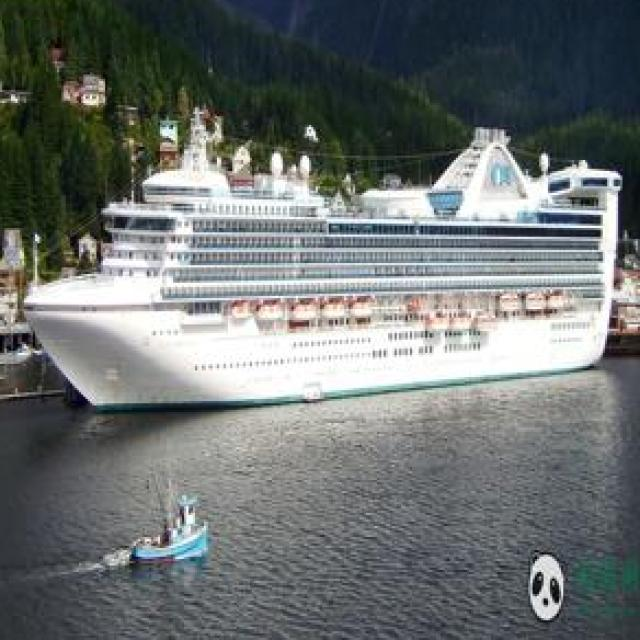fishing boat: (122, 474, 213, 564)
passenger ship: (25, 122, 639, 411)
